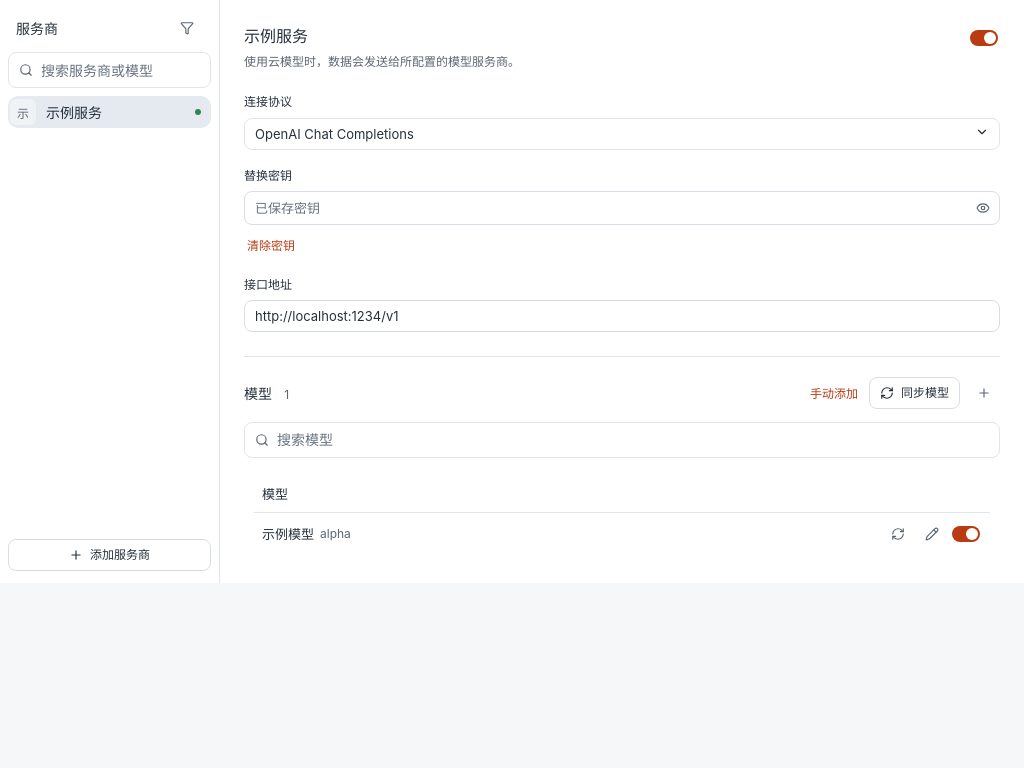
Test: 连接配置失焦自动保存，保存失败保留输入并可重试
Replace the text in the field labelled "接口地址" with "http://localhost:5678/v1" at (622, 316), box top-left (244, 300), bottom-right (1000, 332)
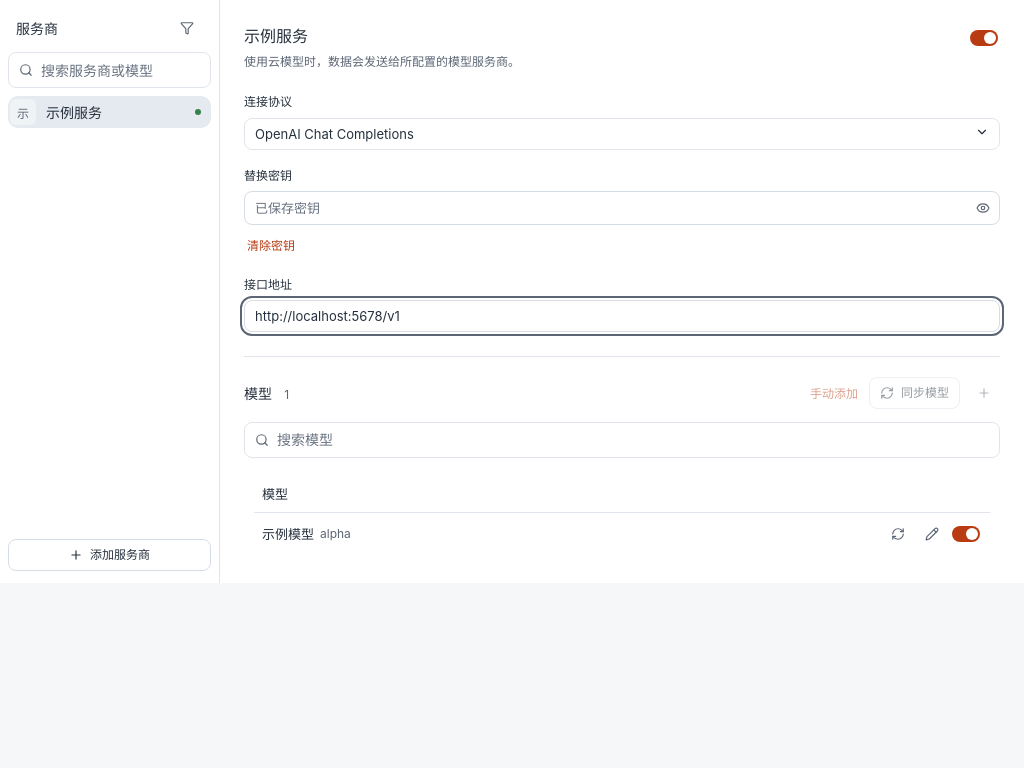
Press Tab
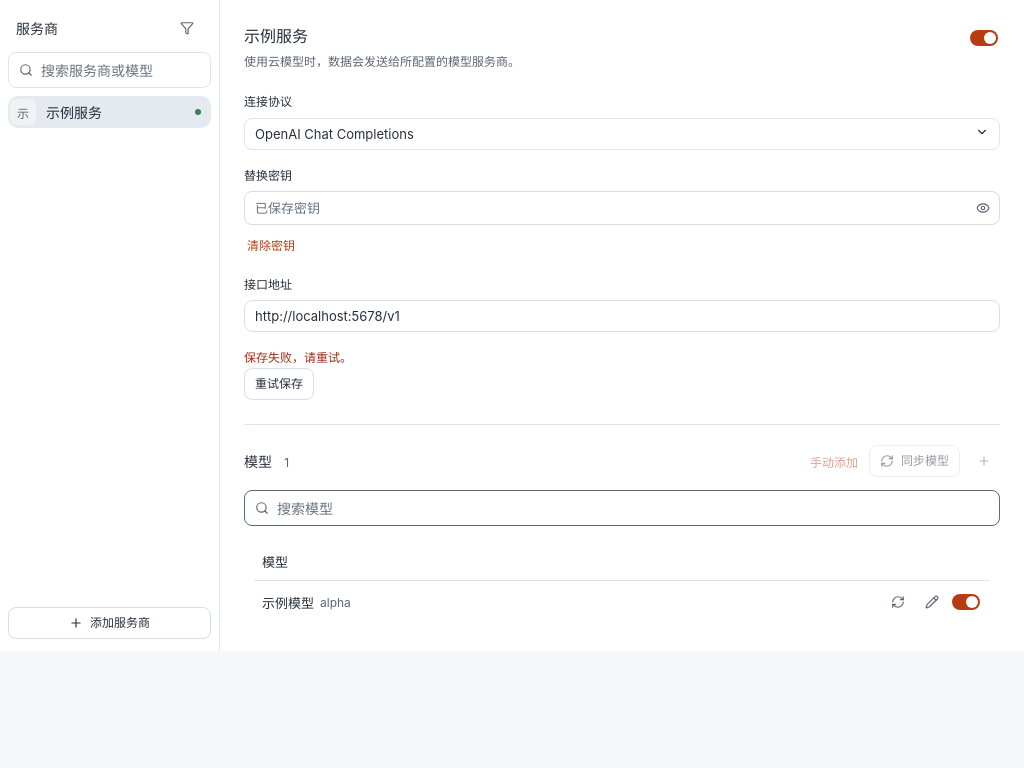
Expected: the message shows "保存失败，请重试。", top-left (244, 350), bottom-right (352, 365)
Click the button "重试保存".
click(279, 384)  # box top-left (244, 368), bottom-right (314, 400)
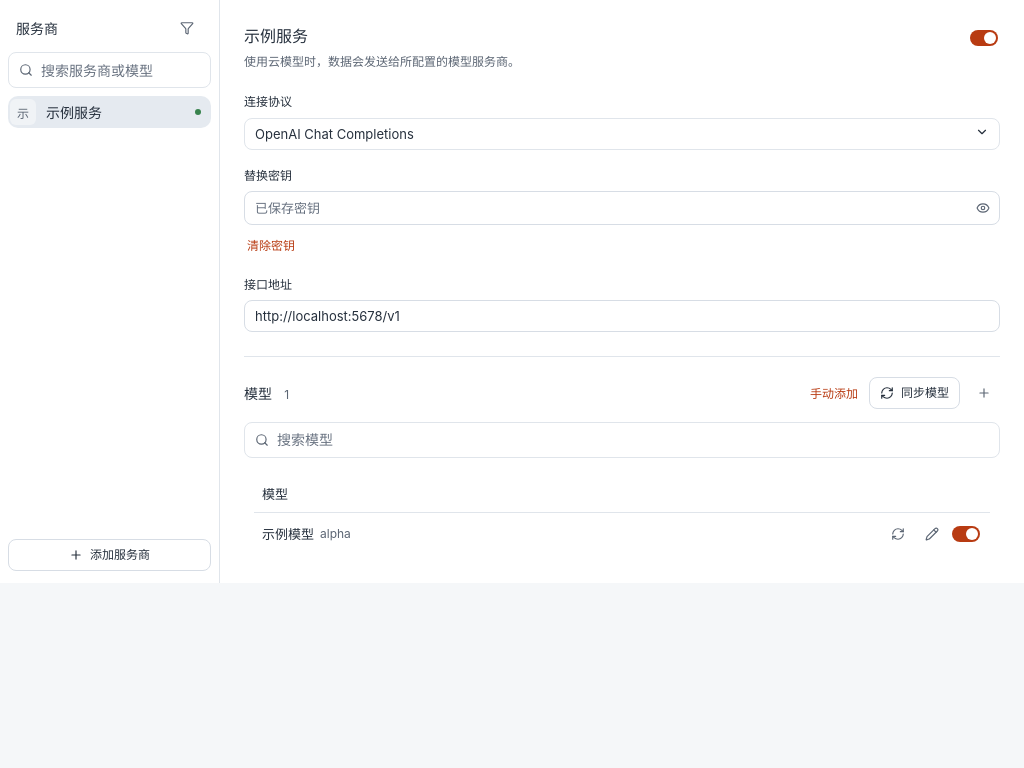
Expected: the message "保存失败，请重试。 重试保存" is gone
